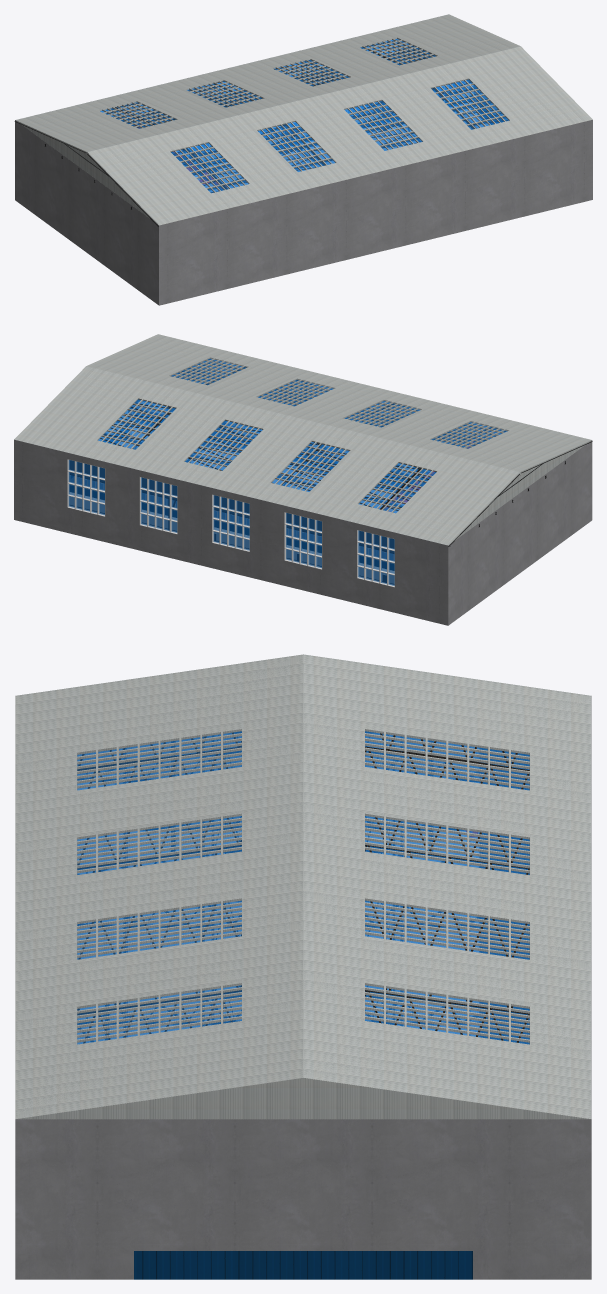
File: Hangar.FBX
3 views of the same model, one above another, from view 1: azimuth 30°, elevation 25°; view 2: azimuth 150°, elevation 25°; view 3: azimuth 270°, elevation 25° (orthographic). The views are drawn at different scales.
Parts seen in each view (by area): view 1: Roof, Walls, RoofGlass, Floor; view 2: Roof, Walls, MainGlass, RoofGlass, Floor; view 3: Roof, Walls, RoofGlass, Floor.
Boxes of the visible parts, left/top/right/bottom form: Roof: left=14, top=14, right=592, bottom=226; Walls: left=15, top=39, right=592, bottom=305; RoofGlass: left=100, top=39, right=508, bottom=193; Floor: left=197, top=112, right=488, bottom=191; Roof: left=14, top=334, right=592, bottom=546; Walls: left=14, top=359, right=592, bottom=625; MainGlass: left=69, top=401, right=429, bottom=585; RoofGlass: left=98, top=358, right=507, bottom=513; Floor: left=18, top=430, right=409, bottom=593; Roof: left=15, top=654, right=591, bottom=1119; Walls: left=15, top=696, right=591, bottom=1279; RoofGlass: left=77, top=731, right=529, bottom=1044; Floor: left=128, top=853, right=478, bottom=1036.
Size of the model in its own units: 217869 by 124738 by 48208.
